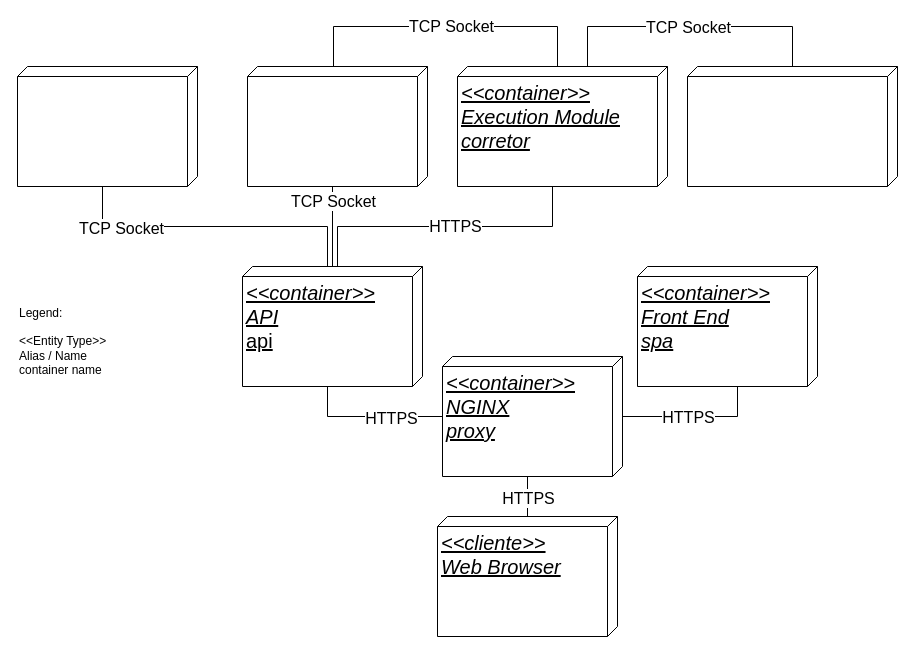
This 915x654 diagram has some shape labels left out. The centre of each missing label's shape, as x and y in pixels:
"<<container>> MongoDB mongo" belongs at point 107,126.
"<<container>> Octave mtmiller/octave" belongs at point 792,126.
"<<container>> RabbitMQ rabbitmq" belongs at point 337,126.
